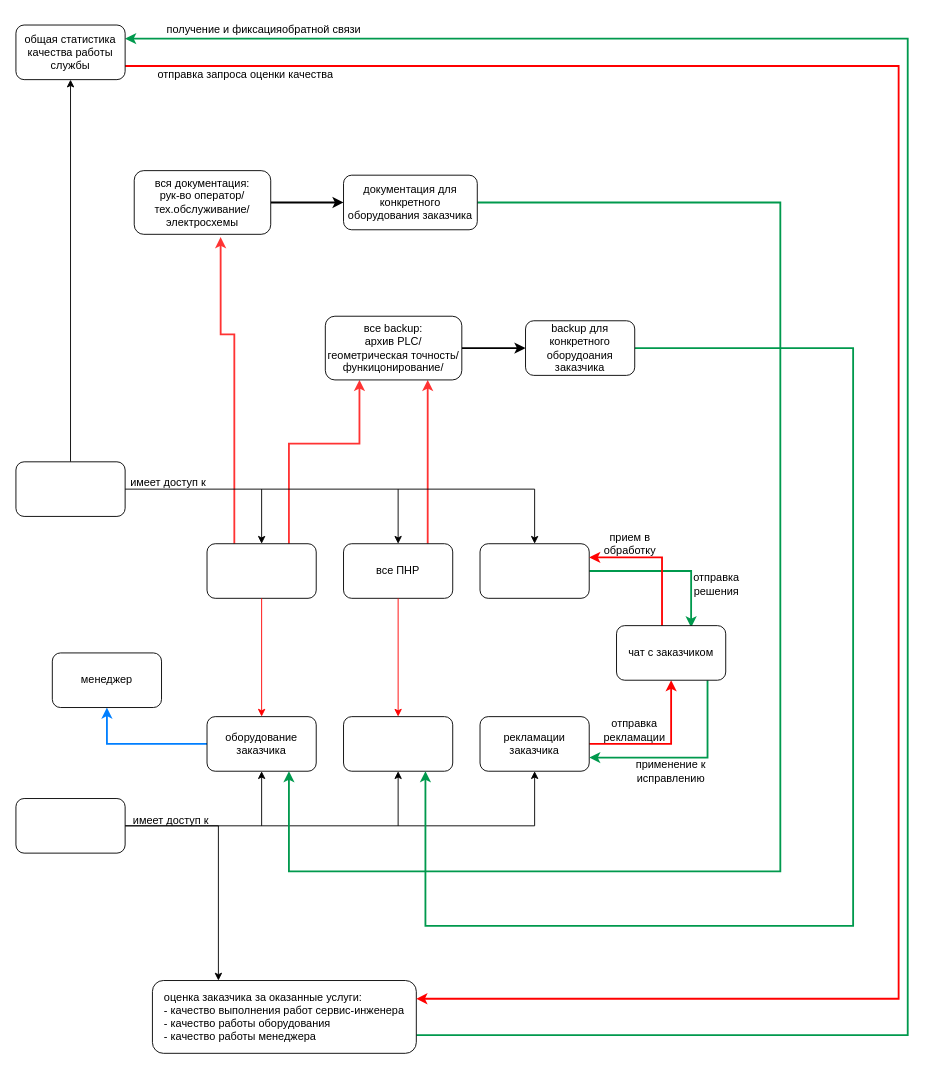
The diagram is 932 pixels wide and 1069 high, and some of its shapes have lost their labels. The shapes that lost their labels are listed below. From the top down, each one's centre as x and y in pixels, then its label:
the point at 70,488: сервис-инженер
the point at 261,570: всё оборудование
the point at 534,570: все рекламации
the point at 398,743: ПНР заказчика
the point at 70,825: заказчик
